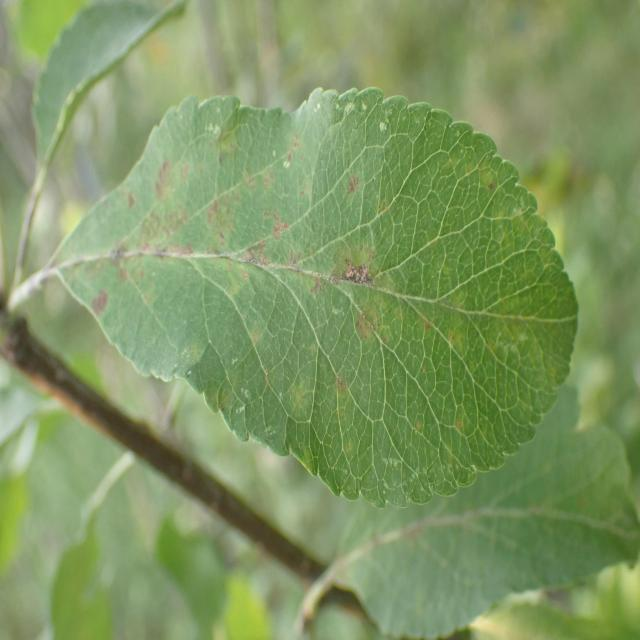scab: (21, 107, 544, 484)
